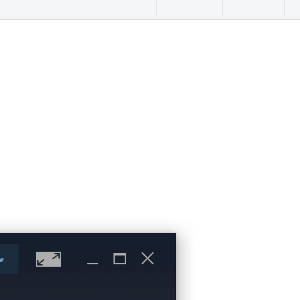close: (131, 243, 164, 273)
